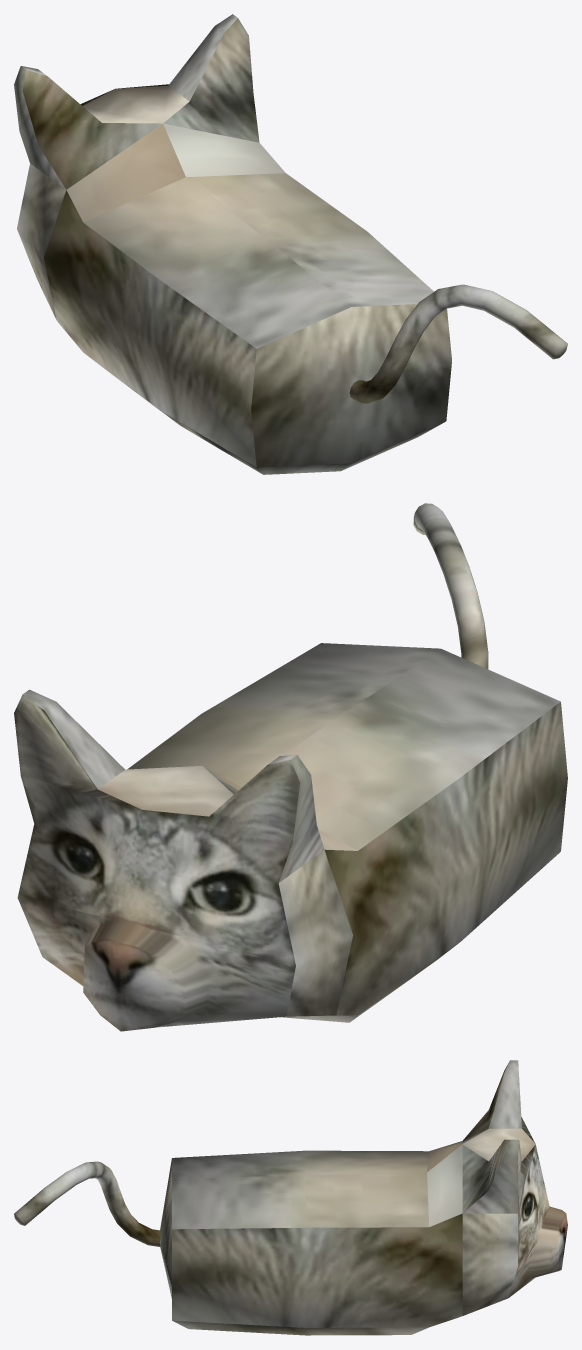
The model's file is Cat.fbx.
3 views of the same model, one above another, from view 1: azimuth 30°, elevation 25°; view 2: azimuth 150°, elevation 25°; view 3: azimuth 270°, elevation 25° (orthographic). The views are drawn at different scales.
Parts seen in each view (by area): view 1: Cube.010, BézierCurve.002; view 2: Cube.010, BézierCurve.002; view 3: Cube.010, BézierCurve.002.
Boxes of the visible parts, x1,y1,x2,y2 form: Cube.010: (14,14,451,474); BézierCurve.002: (349,284,567,403); Cube.010: (14,643,567,1031); BézierCurve.002: (413,503,488,668); Cube.010: (159,1060,567,1335); BézierCurve.002: (14,1161,160,1246).
Size of the model in its own units: 75.82 by 85.46 by 198.
